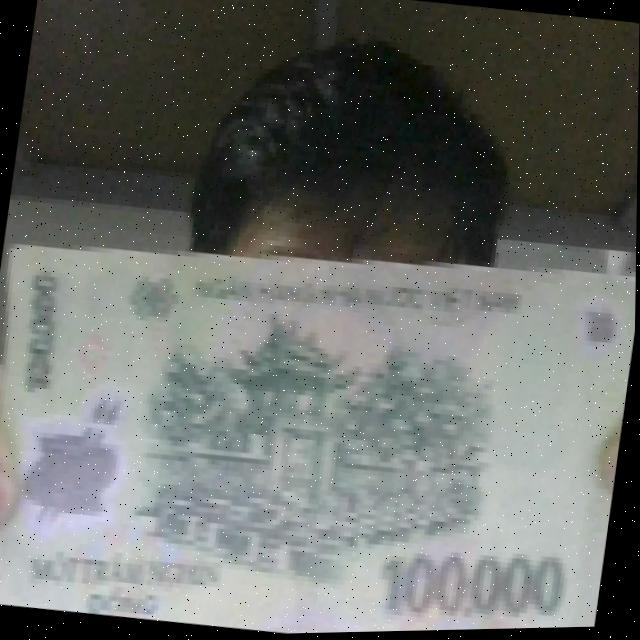100 000 VND: (0, 192, 638, 640)
